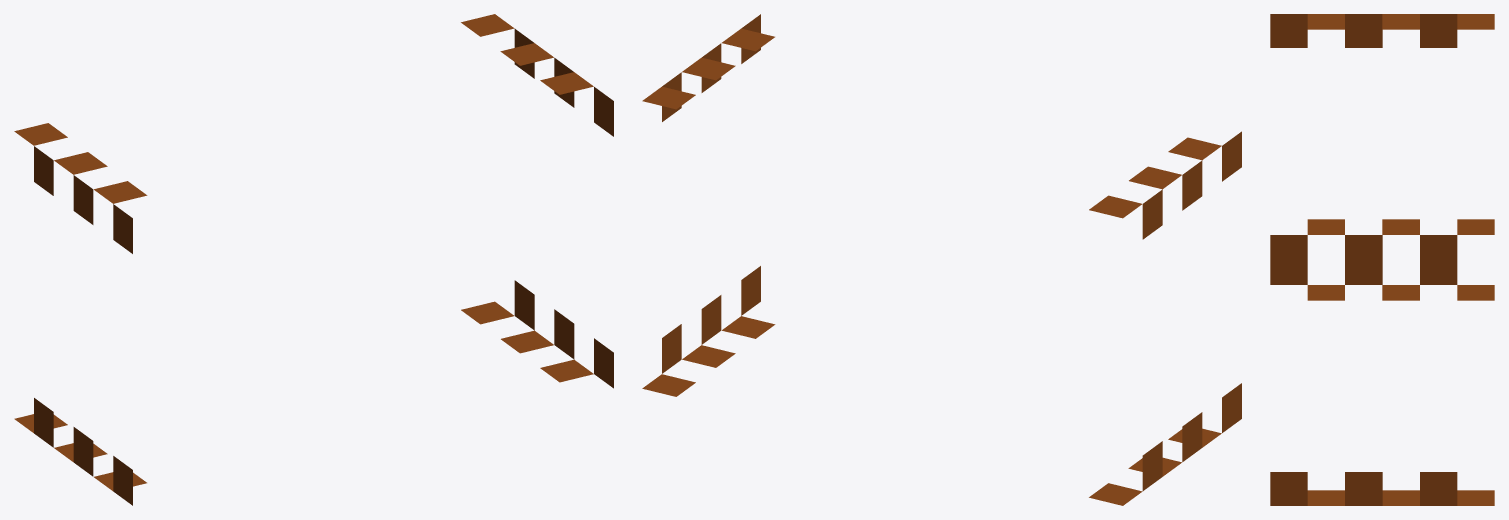
3 renders of one model, left to right at view 1: azimuth 30°, elevation 25°; view 2: azimuth 150°, elevation 25°; view 3: azimuth 270°, elevation 25°, orthographic. The views are drawn at different scales.
Parts seen in each view (by area): view 1: 1_base__material_2_24; view 2: 1_base__material_2_24; view 3: 1_base__material_2_24.
Part boxes in pixels (left/top/right/bottom): 1_base__material_2_24: left=14, top=14, right=613, bottom=505; 1_base__material_2_24: left=642, top=14, right=1241, bottom=505; 1_base__material_2_24: left=1270, top=14, right=1494, bottom=505.
Size of the model in its own units: 0.2188 by 0.125 by 0.0938.
